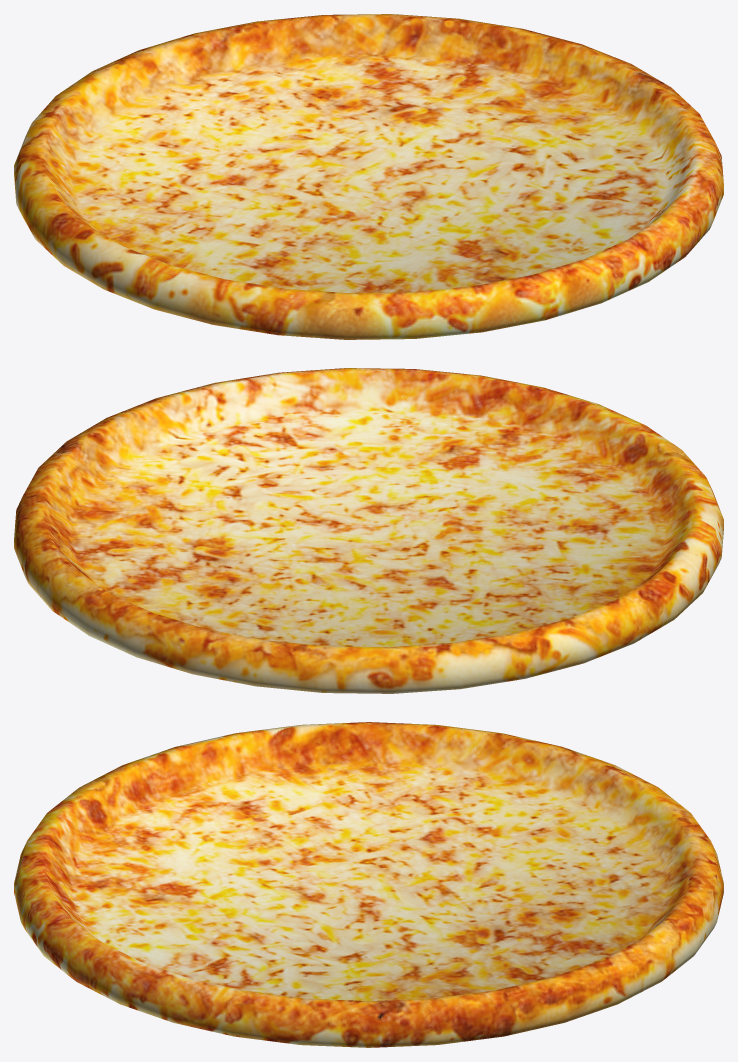
Rendered from America_pizza_bread.fbx.
The picture shows the model from 3 angles, top to bottom: view 1: azimuth 30°, elevation 25°; view 2: azimuth 150°, elevation 25°; view 3: azimuth 270°, elevation 25°; orthographic projection.
Parts seen in each view (by area): view 1: Cylinder; view 2: Cylinder; view 3: Cylinder.
Part boxes in pixels (x1=…): Cylinder: x1=14, y1=14, x2=723, y2=339; Cylinder: x1=14, y1=368, x2=723, y2=693; Cylinder: x1=14, y1=722, x2=723, y2=1047.
Size of the model in its own units: 200 by 12 by 200.
Materials: 1 (1 with a texture image).
